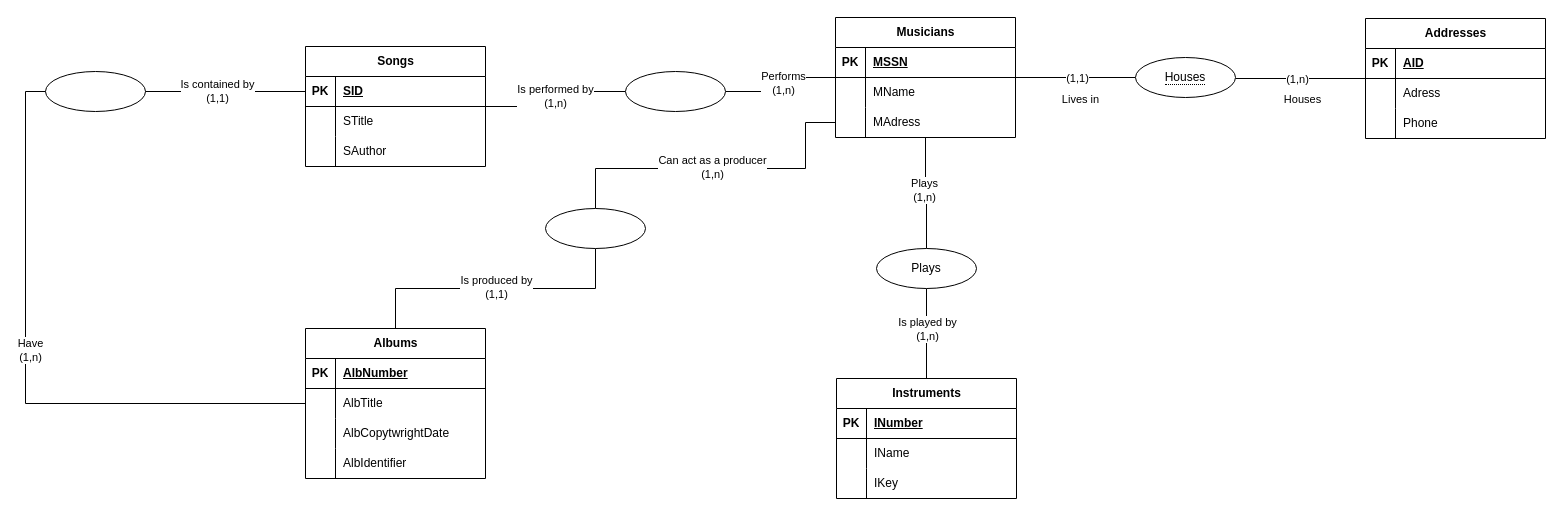
Some shapes in this 1563 by 516 pixel diagram are drawn without their labels. Each missing label, with the centre of its shape:
"Perform" belongs at (x=675, y=91).
"Play" belongs at (x=95, y=91).
"Producer" belongs at (x=595, y=228).
